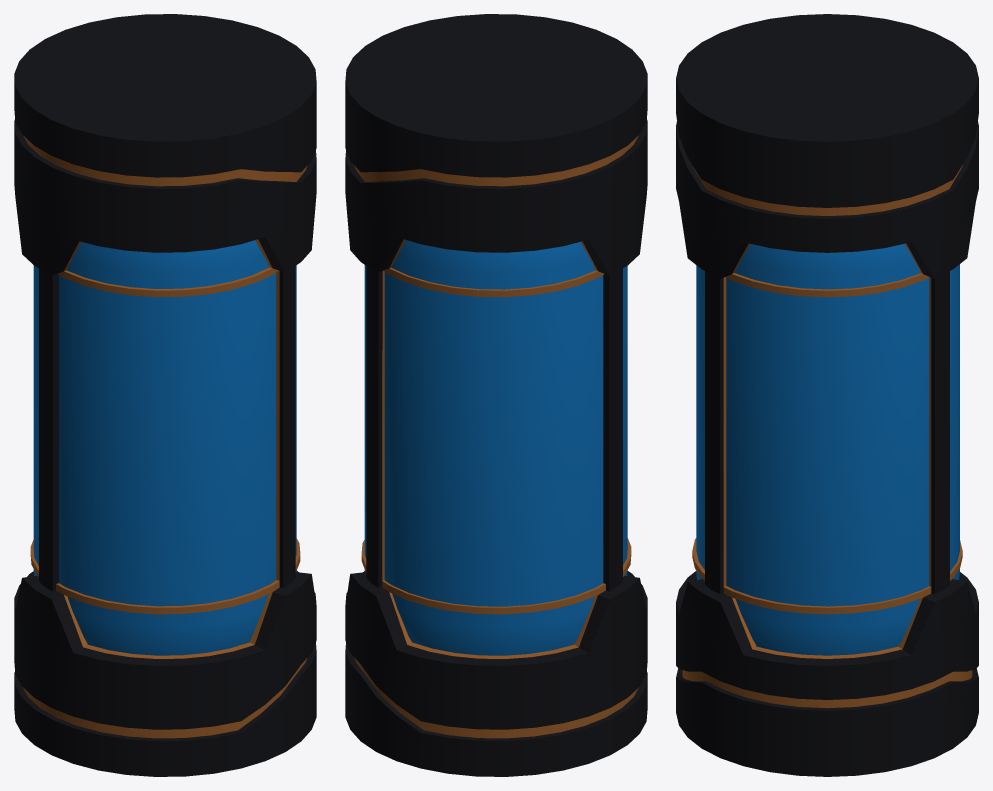
Rendered from 04_Pila_01.fbx.
3 renders of one model, left to right at view 1: azimuth 30°, elevation 25°; view 2: azimuth 150°, elevation 25°; view 3: azimuth 270°, elevation 25°, orthographic.
Visible parts, largest first — view 1: PilaStock_01; view 2: PilaStock_01; view 3: PilaStock_01.
Part boxes in pixels (box(x1,y1,x2,y2)): PilaStock_01: box(14, 14, 316, 776); PilaStock_01: box(345, 14, 647, 776); PilaStock_01: box(676, 14, 978, 776).
Bounding box in the file's own units: 123 × 284 × 123.
